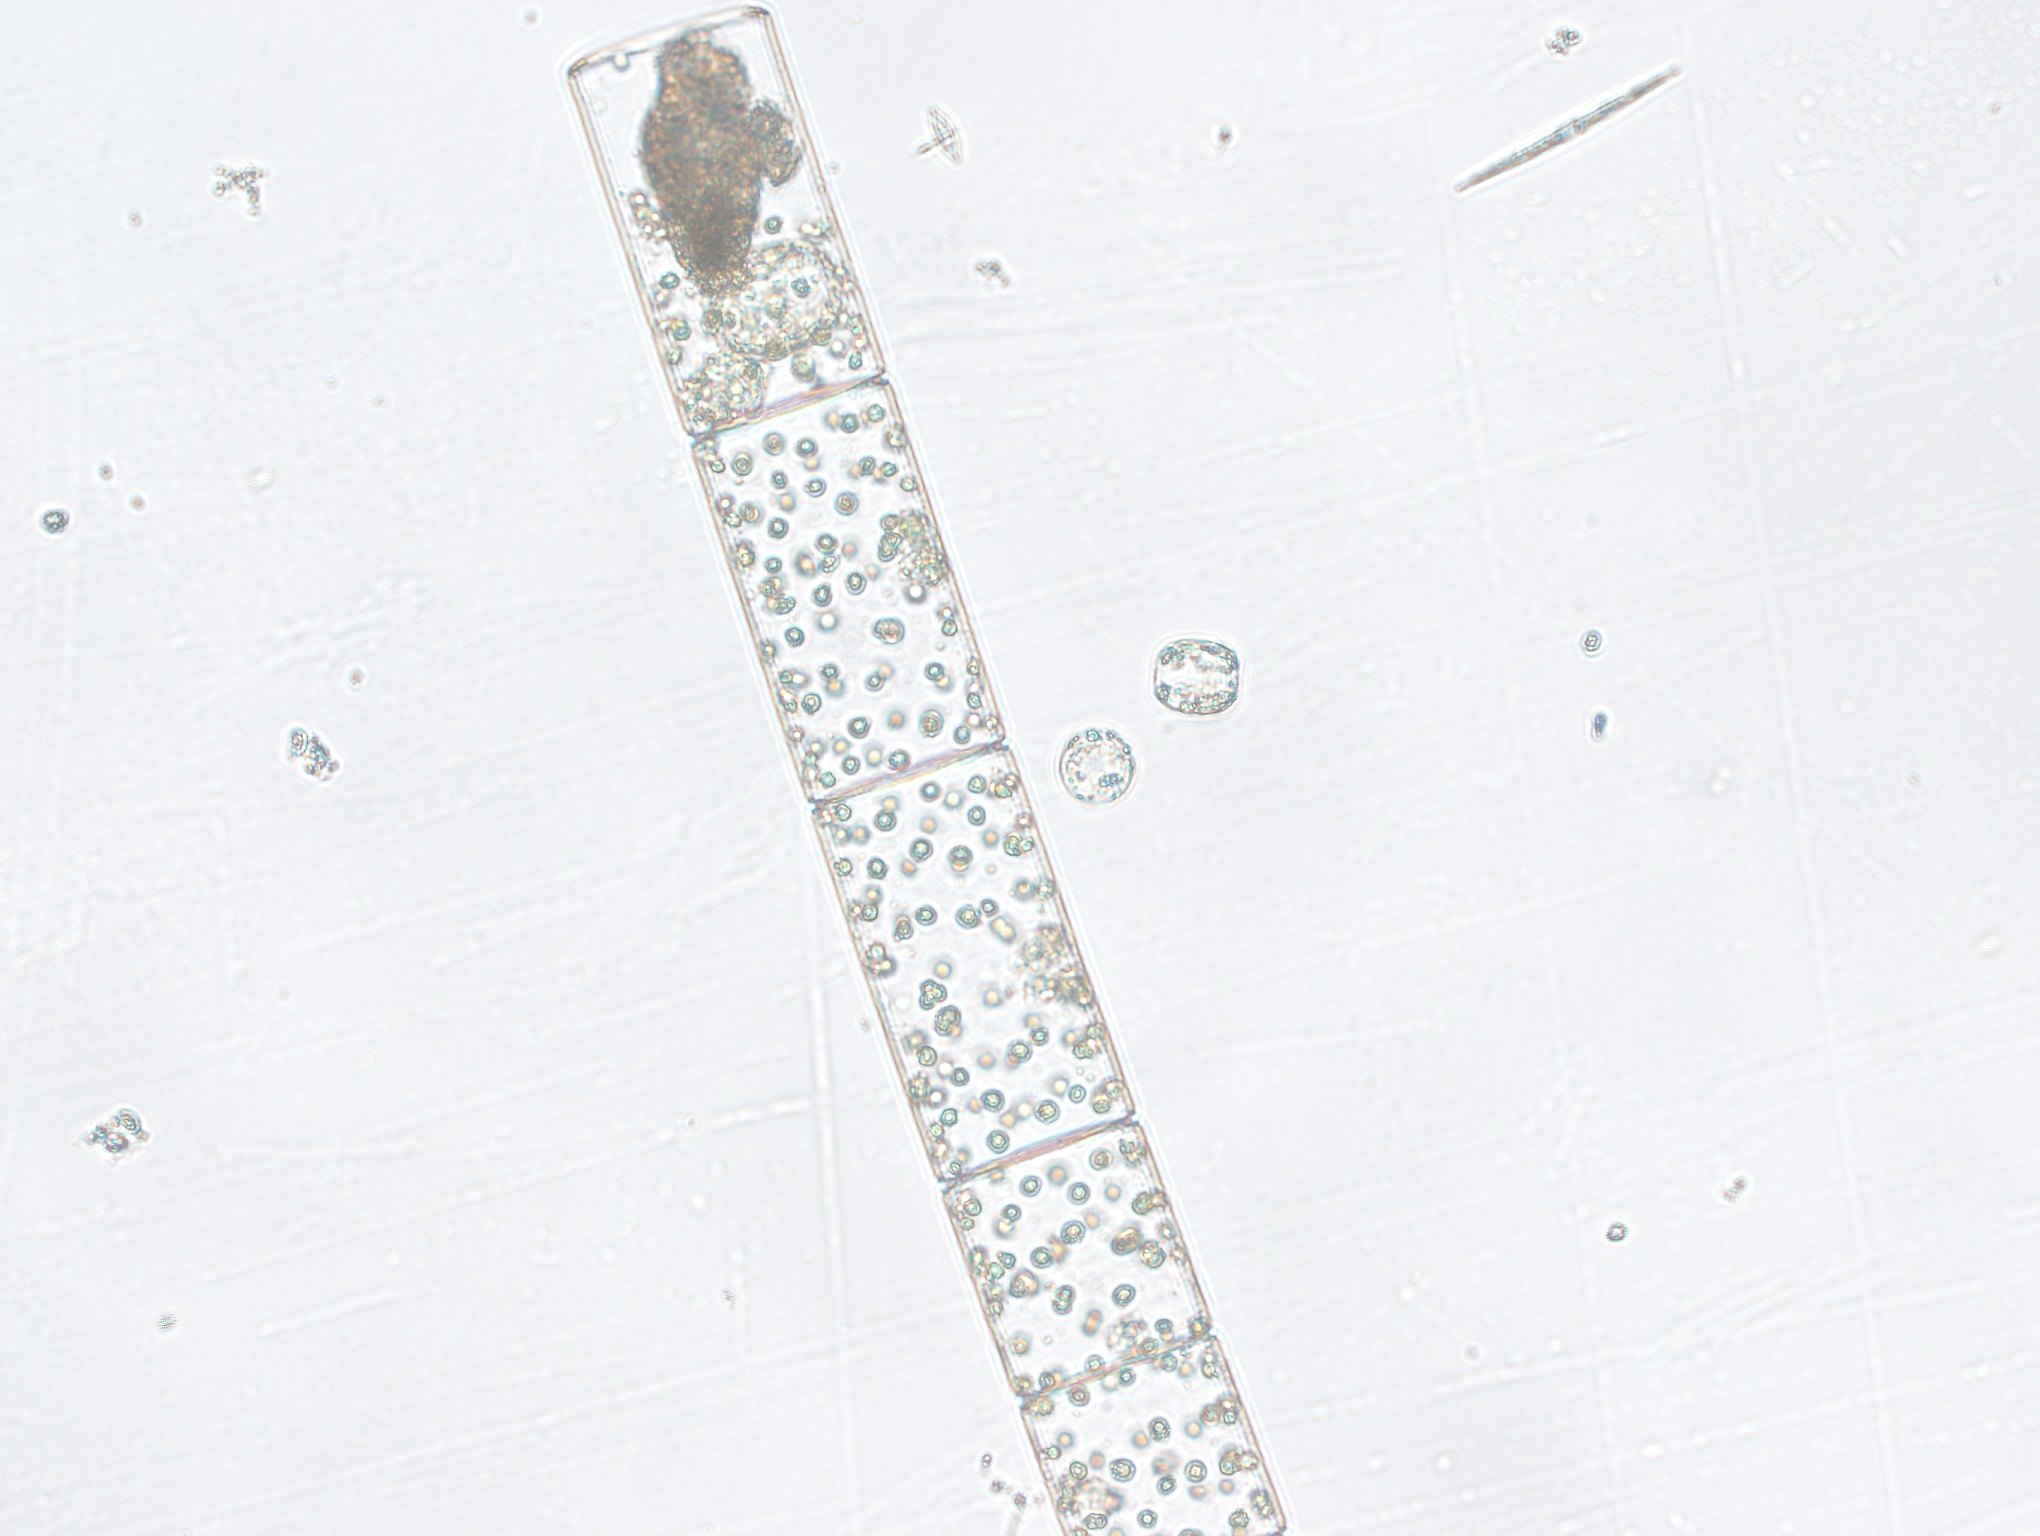guinardia flaccida: (539, 10, 1306, 1536)
pleurosigma pelagicum: (1430, 58, 1703, 200)
